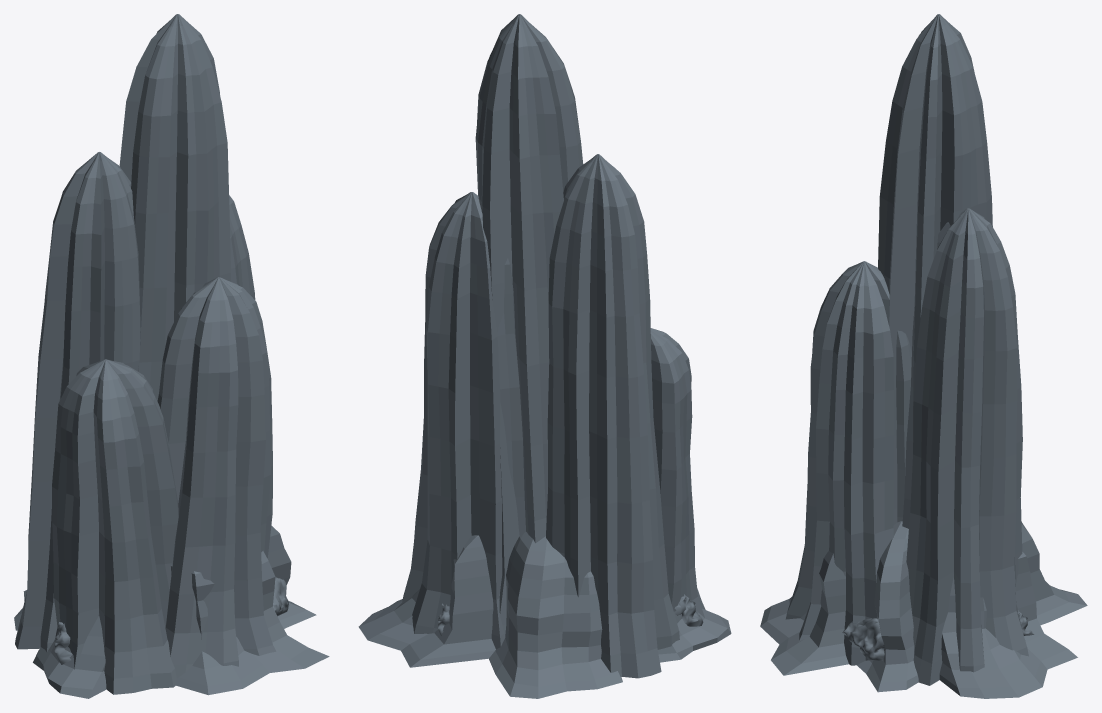
Rendered from peak-distant.glb.
3 renders of one model, left to right at view 1: azimuth 30°, elevation 25°; view 2: azimuth 150°, elevation 25°; view 3: azimuth 270°, elevation 25°, orthographic. The views are drawn at different scales.
Visible parts, largest first — view 1: peak-distant_Stone; view 2: peak-distant_Stone; view 3: peak-distant_Stone.
Boxes of the visible parts, x1,y1,x2,y2 form: peak-distant_Stone: (14, 14, 329, 698); peak-distant_Stone: (358, 14, 731, 698); peak-distant_Stone: (760, 14, 1087, 698).
Bounding box in the file's own units: 13.86 × 28 × 13.35.
